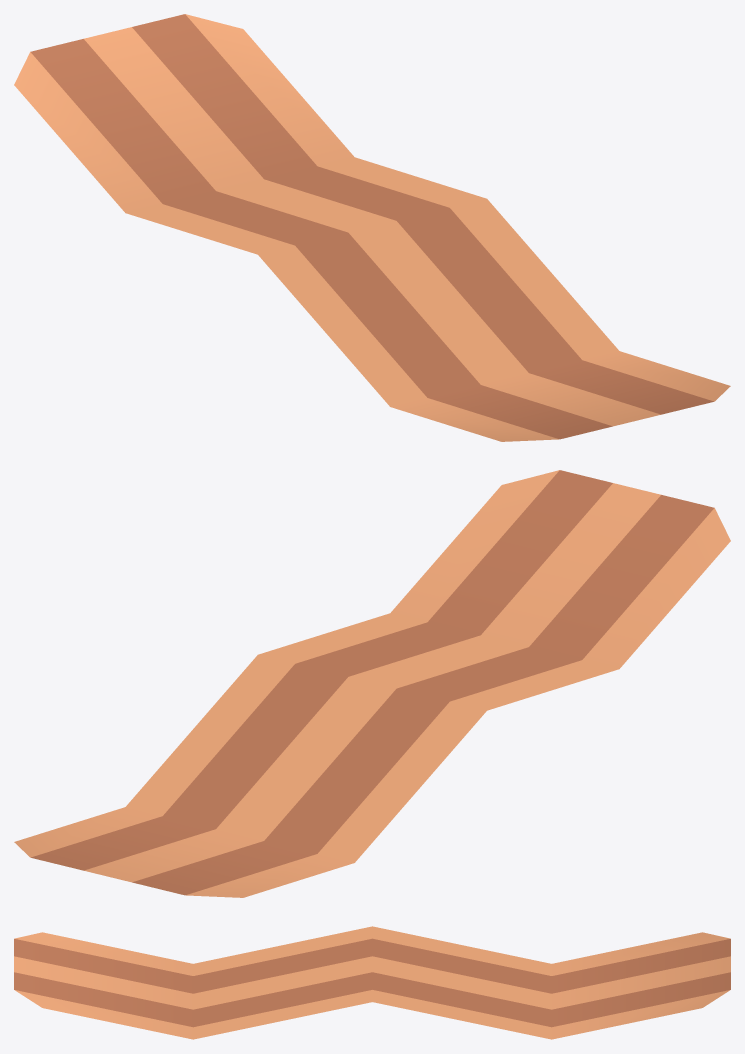
File: bacon.glb
3 renders of one model, top to bottom at view 1: azimuth 30°, elevation 25°; view 2: azimuth 150°, elevation 25°; view 3: azimuth 270°, elevation 25°, orthographic. The views are drawn at different scales.
Parts seen in each view (by area): view 1: bacon; view 2: bacon; view 3: bacon.
Part boxes in pixels (bbox=[...]): bacon: bbox=[14, 14, 730, 441]; bacon: bbox=[14, 470, 730, 897]; bacon: bbox=[14, 926, 730, 1039].
Size of the model in its own units: 0.13 by 0.03 by 0.52.
